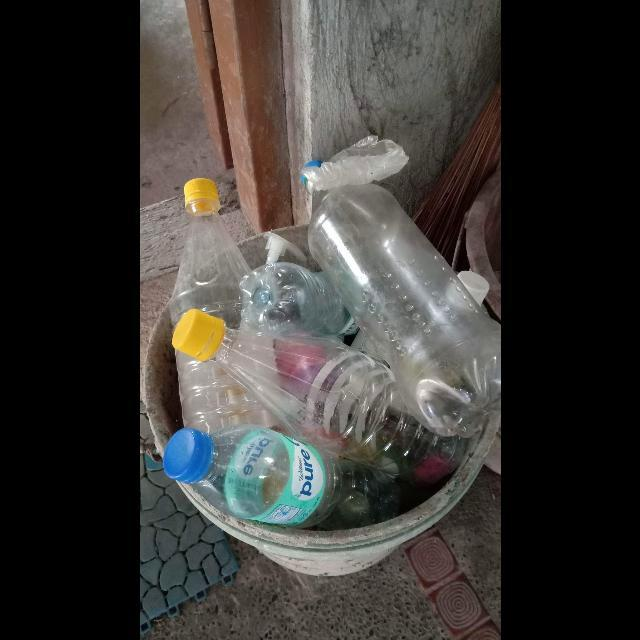plastic_bag: (301, 136, 409, 194)
plastic_bottle: (171, 309, 473, 486), (306, 184, 501, 439), (162, 424, 399, 531), (169, 179, 250, 329), (238, 262, 359, 338), (174, 351, 282, 434)
